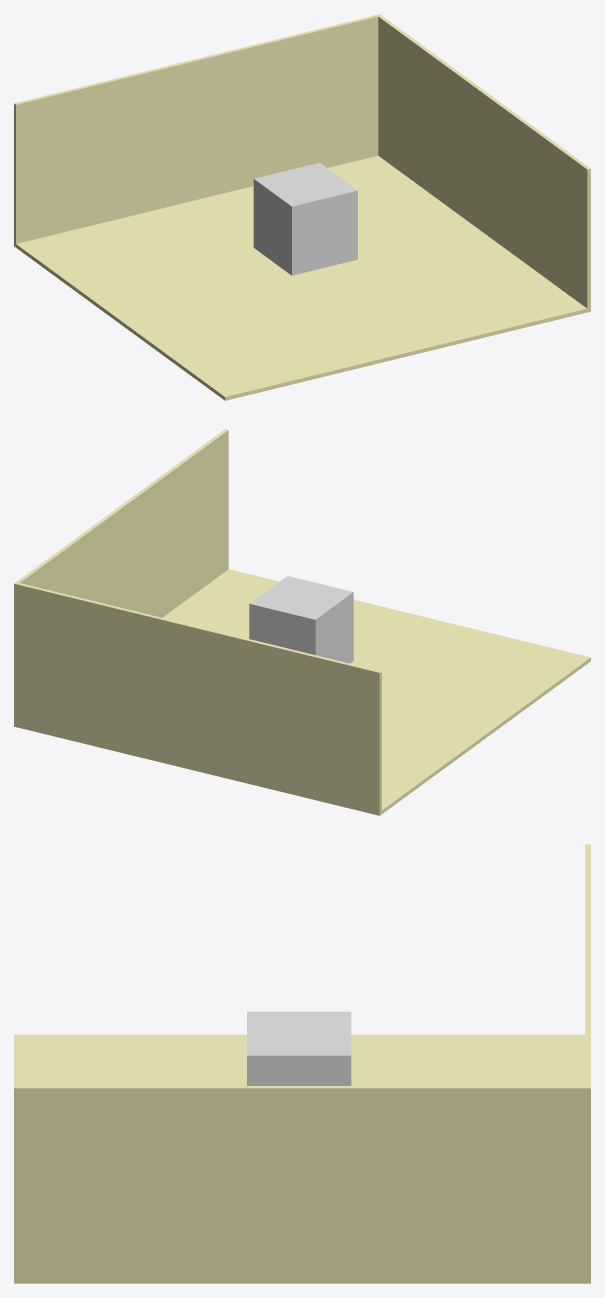
The picture shows the model from 3 angles, top to bottom: view 1: azimuth 30°, elevation 25°; view 2: azimuth 150°, elevation 25°; view 3: azimuth 270°, elevation 25°; orthographic projection. The views are drawn at different scales.
Parts seen in each view (by area): view 1: 방, 상자; view 2: 방, 상자; view 3: 방, 상자.
Boxes of the visible parts, x1,y1,x2,y2 form: 방: (14, 14, 590, 400); 상자: (253, 162, 357, 275); 방: (14, 429, 590, 815); 상자: (249, 576, 353, 663); 방: (14, 844, 590, 1283); 상자: (247, 1011, 351, 1085).
Size of what is drawn, in the model's own units: 11.08 by 4.14 by 11.08.
